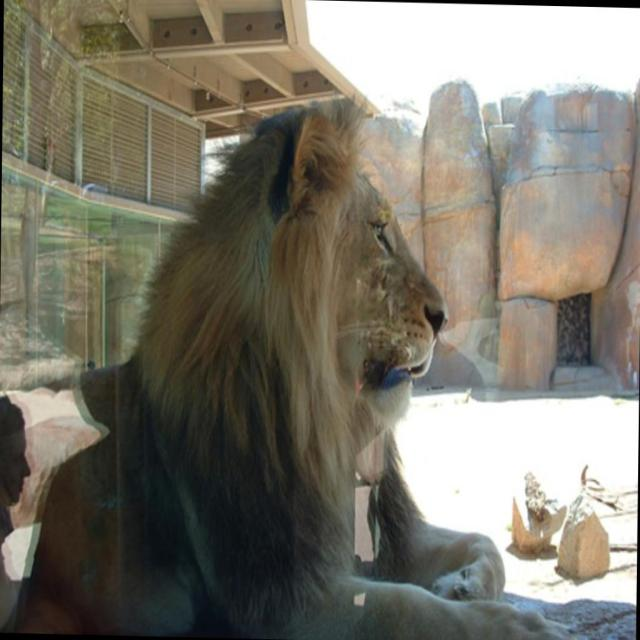Lion: (3, 76, 585, 639)
